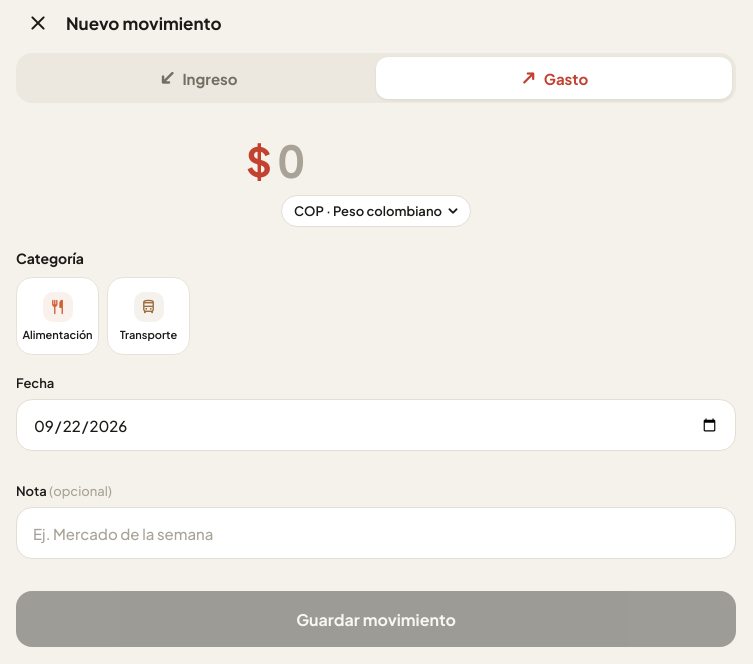
Test: Nuevo movimiento › el importe se pinta con la agrupacion del idioma
Type "1250000" into the field named "Importe" at coordinates (391, 160), box [276,131,506,189]
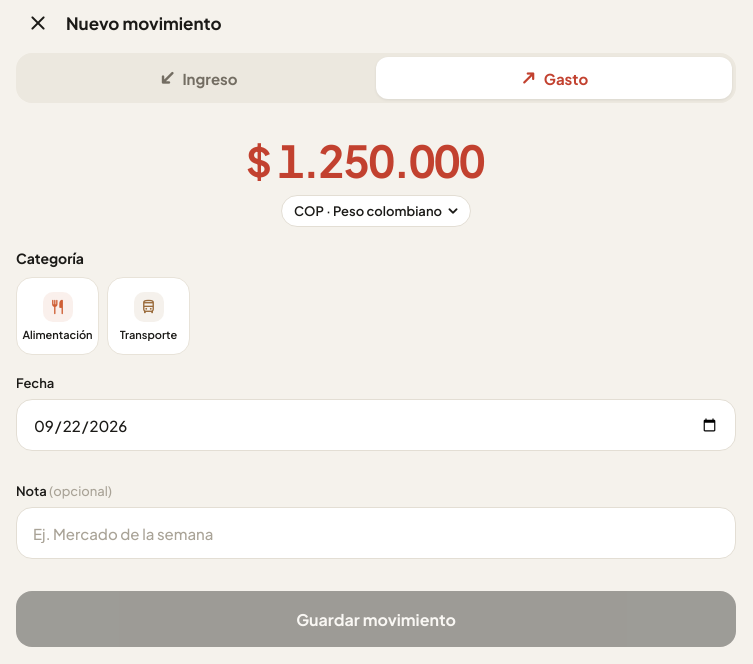
Result: the field named "Importe" holds "1.250.000" at [276,131,506,189]
